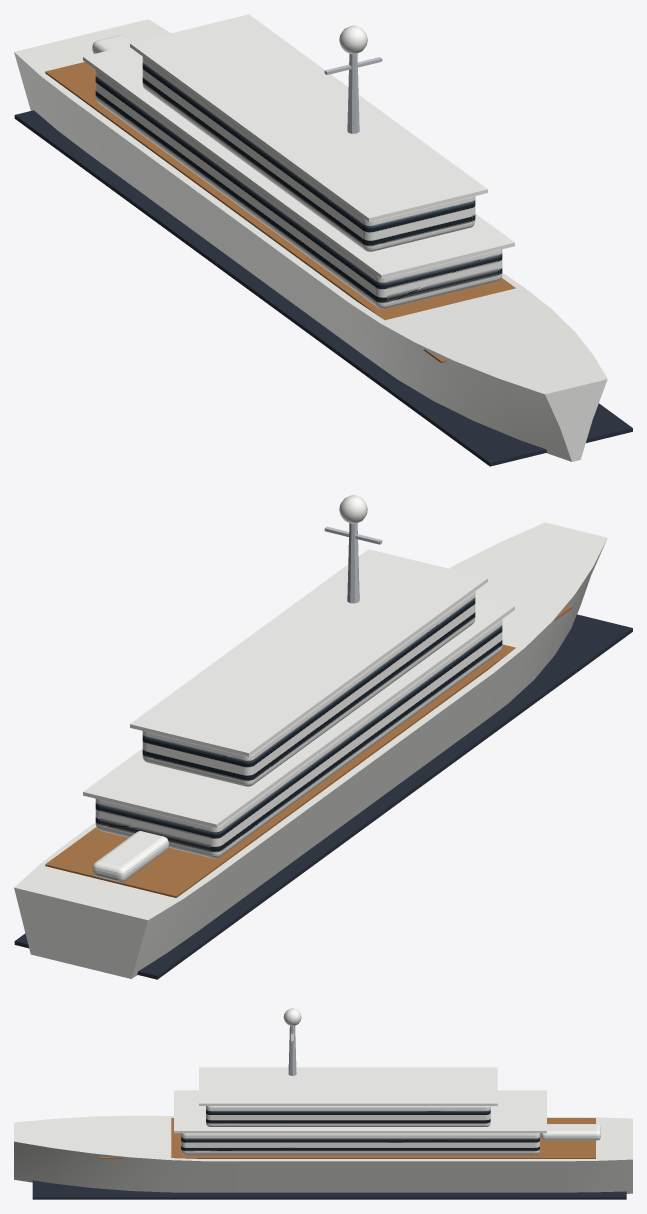
Rendered from superyacht_white.glb.
The picture shows the model from 3 angles, top to bottom: view 1: azimuth 30°, elevation 25°; view 2: azimuth 150°, elevation 25°; view 3: azimuth 270°, elevation 25°; orthographic projection. The views are drawn at different scales.
Parts seen in each view (by area): view 1: yacht; view 2: yacht; view 3: yacht.
Boxes of the visible parts, x1,y1,x2,y2 form: yacht: (14, 14, 632, 466); yacht: (14, 495, 632, 979); yacht: (14, 1008, 632, 1199).
Bounding box in the file's own units: 10.54 × 18.7 × 62.
Materials: 6 (1 with a texture image).
